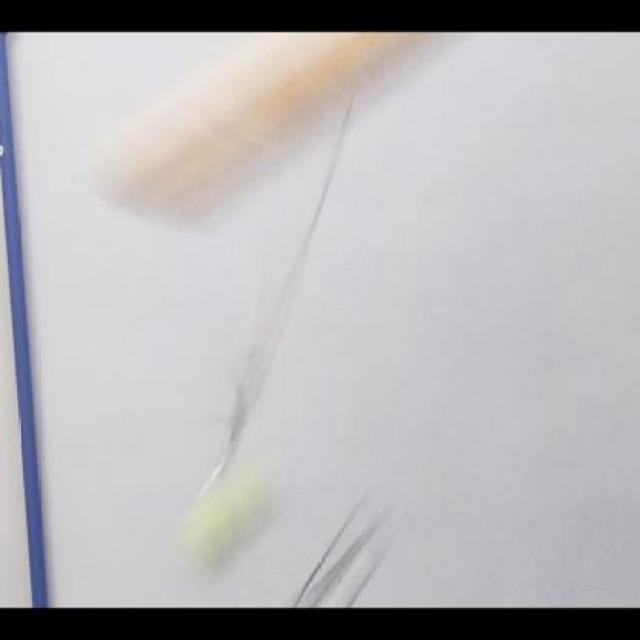baseball: (181, 467, 279, 578)
